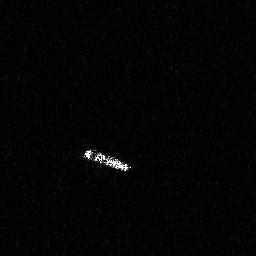ship: (82, 146, 133, 174)
